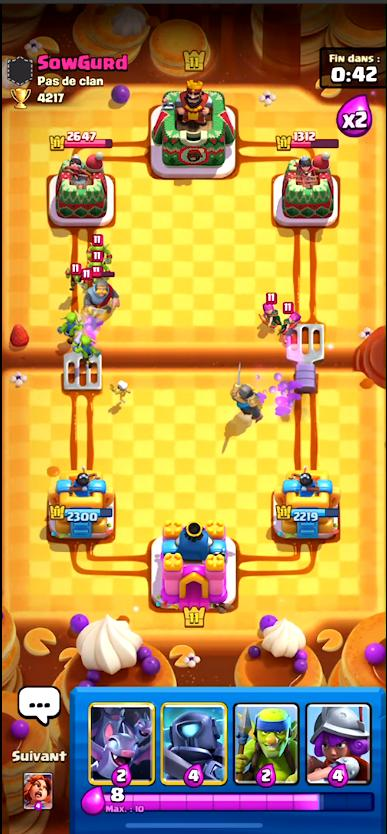archere: (279, 301, 302, 338), (257, 293, 279, 328)
chevalier: (232, 367, 265, 418)
gobelin: (87, 235, 110, 260), (75, 336, 100, 359), (57, 312, 79, 337), (83, 252, 109, 272), (64, 264, 85, 287)
squelette: (113, 377, 128, 398)
